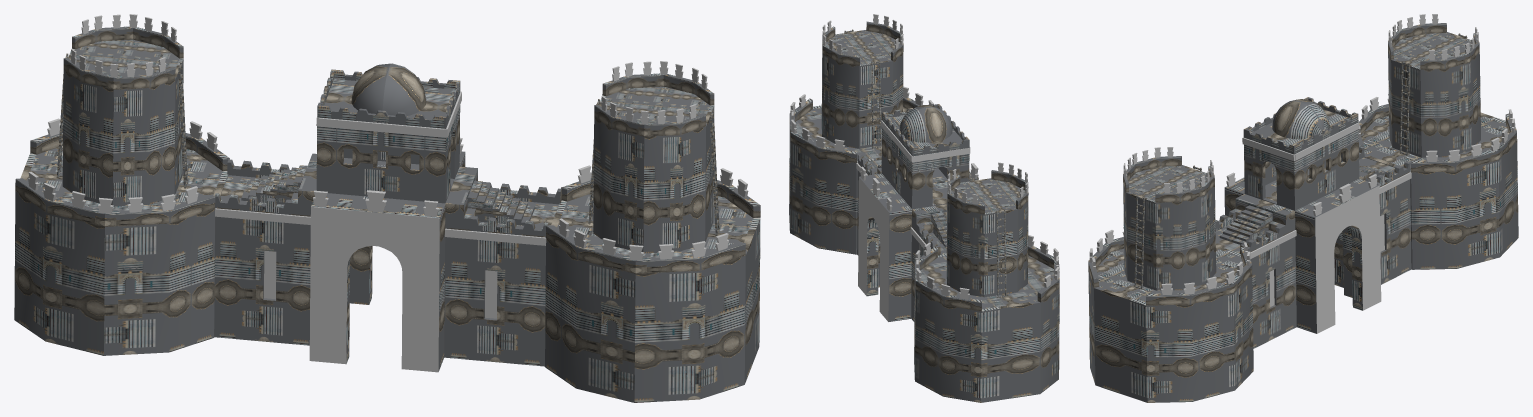
File: wall_gate.fbx
3 renders of one model, left to right at view 1: azimuth 30°, elevation 25°; view 2: azimuth 150°, elevation 25°; view 3: azimuth 270°, elevation 25°, orthographic. The views are drawn at different scales.
Parts seen in each view (by area): view 1: object; view 2: object; view 3: object.
Boxes of the visible parts, x1,y1,x2,y2 form: object: (14,14,760,402); object: (789,14,1059,402); object: (1088,14,1518,402).
Size of the model in its own units: 3.55 by 1.76 by 3.28.
